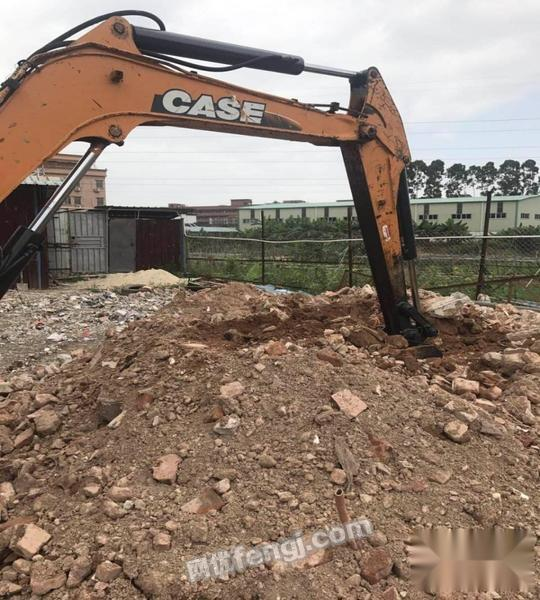excavator: (1, 27, 442, 357)
